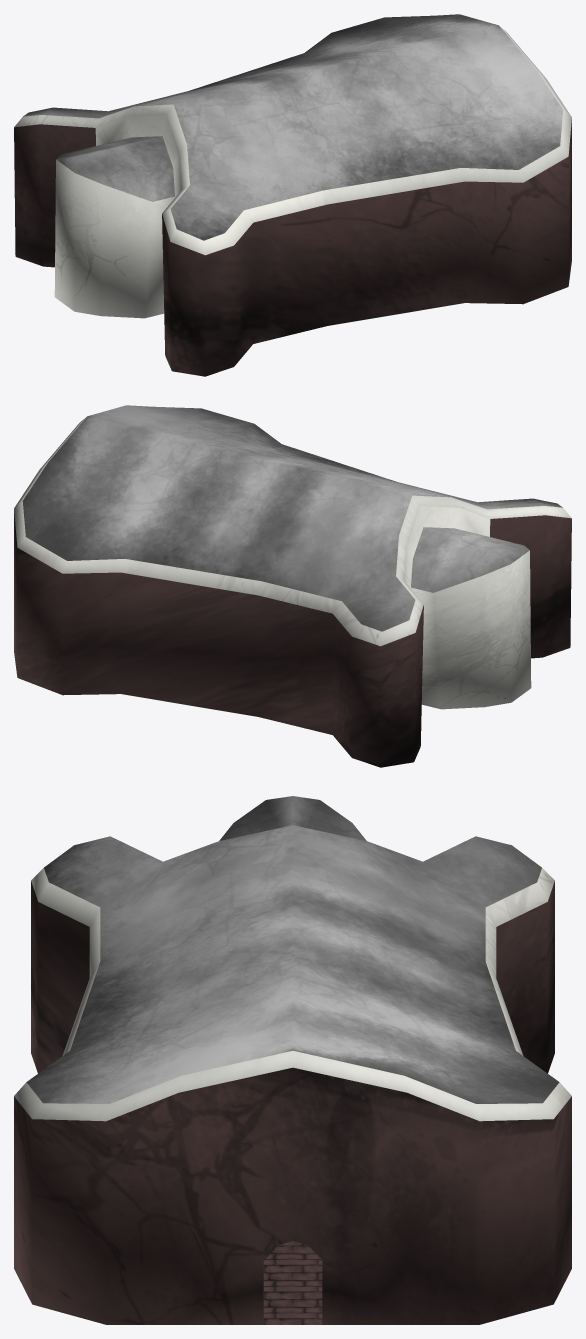
Rendered from MOD_L1_BossRoom.fbx.
The picture shows the model from 3 angles, top to bottom: view 1: azimuth 30°, elevation 25°; view 2: azimuth 150°, elevation 25°; view 3: azimuth 270°, elevation 25°; orthographic projection. The views are drawn at different scales.
Parts seen in each view (by area): view 1: BossRoom; view 2: BossRoom; view 3: BossRoom.
Part boxes in pixels (bbox=[...]): BossRoom: bbox=[14, 14, 571, 376]; BossRoom: bbox=[14, 405, 571, 767]; BossRoom: bbox=[14, 796, 571, 1324].
Bounding box in the file's own units: 428 × 176 × 329.
